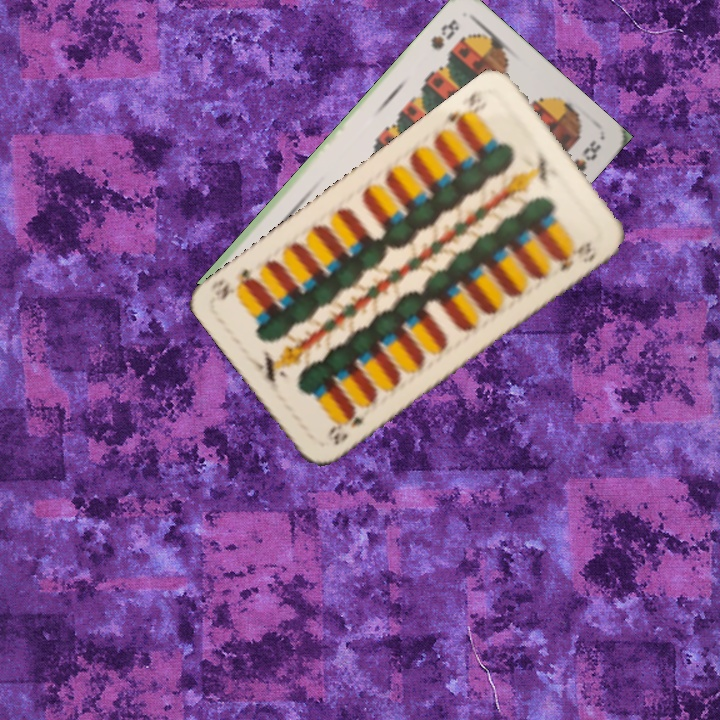E10: (443, 85, 490, 134), (323, 408, 372, 448)
S8: (426, 15, 462, 53)
